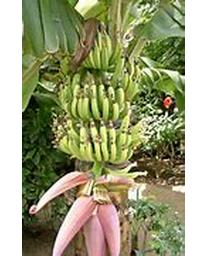banana: (59, 40, 139, 163)
